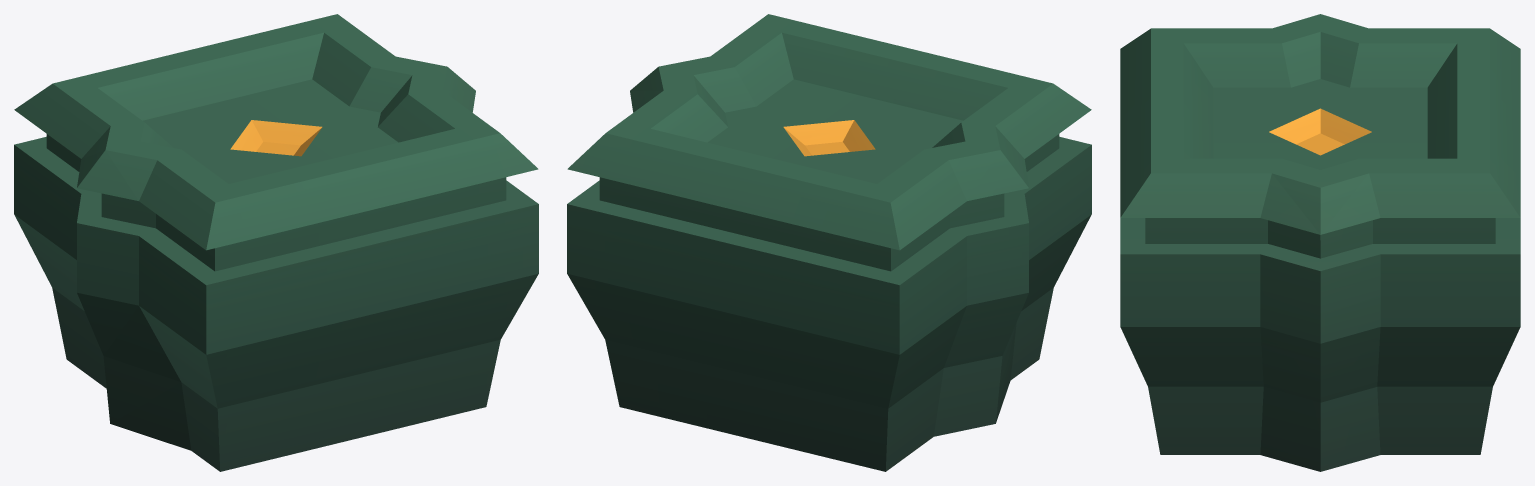
Rendered from SM_PillarTop_01.fbx.
3 renders of one model, left to right at view 1: azimuth 30°, elevation 25°; view 2: azimuth 150°, elevation 25°; view 3: azimuth 270°, elevation 25°, orthographic. The views are drawn at different scales.
Parts seen in each view (by area): view 1: SM_PillarTop_01; view 2: SM_PillarTop_01; view 3: SM_PillarTop_01.
Boxes of the visible parts, x1,y1,x2,y2 form: SM_PillarTop_01: (14, 14, 538, 471); SM_PillarTop_01: (567, 14, 1091, 471); SM_PillarTop_01: (1120, 14, 1520, 471).
Size of the model in its own units: 300 by 197 by 250.
Materials: 1 (1 with a texture image).
